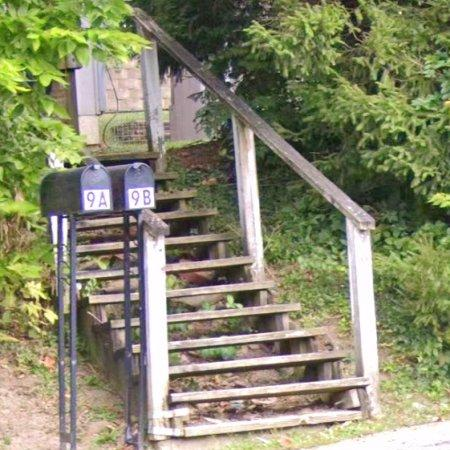stairs: (77, 191, 370, 450)
